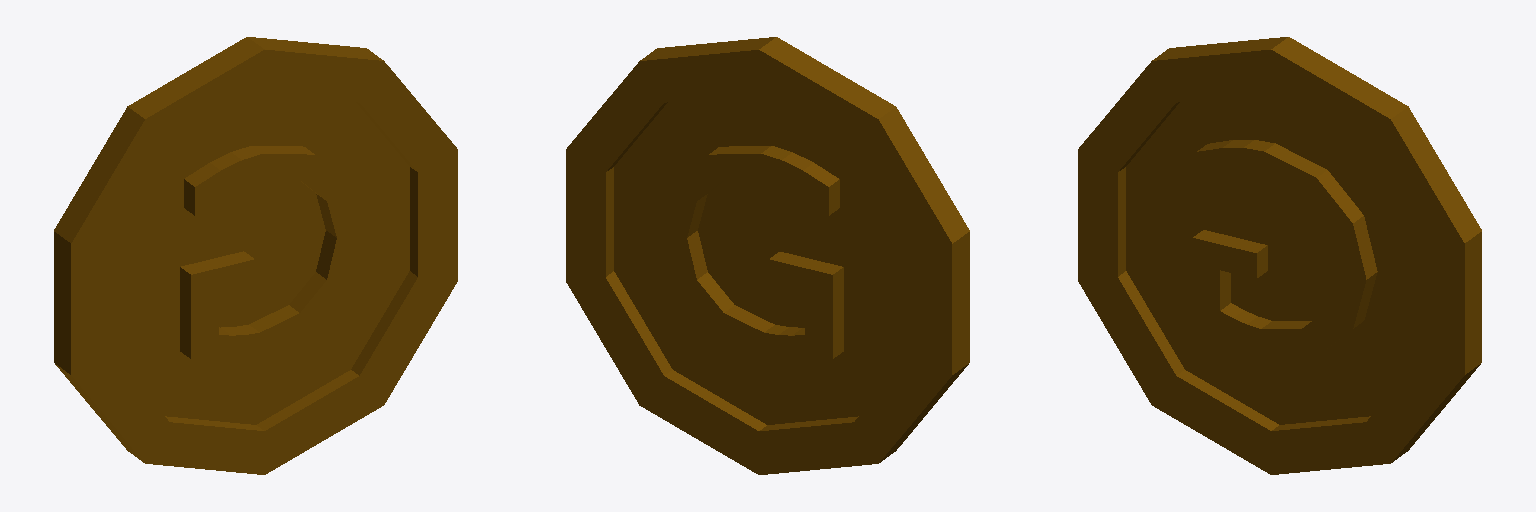
File: GoldCoin.obj
The picture shows the model from 3 angles: view 1: azimuth 30°, elevation 25°; view 2: azimuth 150°, elevation 25°; view 3: azimuth 330°, elevation 25°; orthographic projection.
Visible parts, largest first — view 1: GoldCoin_Circle.003; view 2: GoldCoin_Circle.003; view 3: GoldCoin_Circle.003.
Part boxes in pixels (left/top/right/bottom): GoldCoin_Circle.003: left=54, top=37, right=457, bottom=474; GoldCoin_Circle.003: left=566, top=37, right=969, bottom=474; GoldCoin_Circle.003: left=1078, top=37, right=1481, bottom=474.
Bounding box in the file's own units: 6.37 × 6.7 × 0.6442.